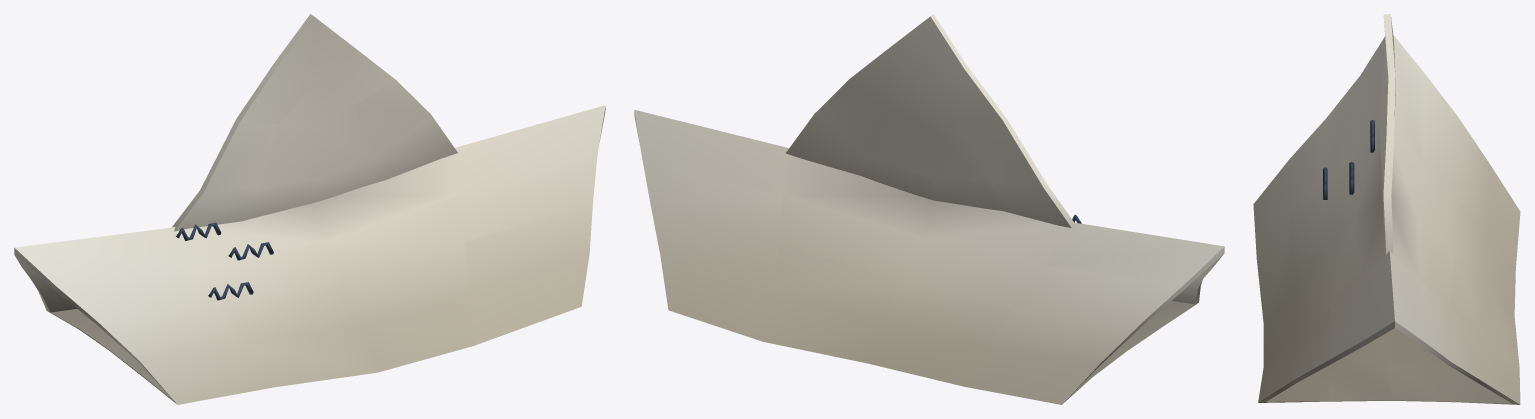
File: grotto_paper_boat.glb
3 views of the same model, side by side, from view 1: azimuth 30°, elevation 25°; view 2: azimuth 150°, elevation 25°; view 3: azimuth 270°, elevation 25° (orthographic).
Visible parts, largest first — view 1: grotto_paper_boat; view 2: grotto_paper_boat; view 3: grotto_paper_boat.
Part boxes in pixels (x1=…): grotto_paper_boat: x1=14, y1=14, x2=605, y2=404; grotto_paper_boat: x1=634, y1=14, x2=1224, y2=404; grotto_paper_boat: x1=1253, y1=14, x2=1520, y2=404.
Size of the model in its own units: 7.07 by 3.55 by 2.78.
